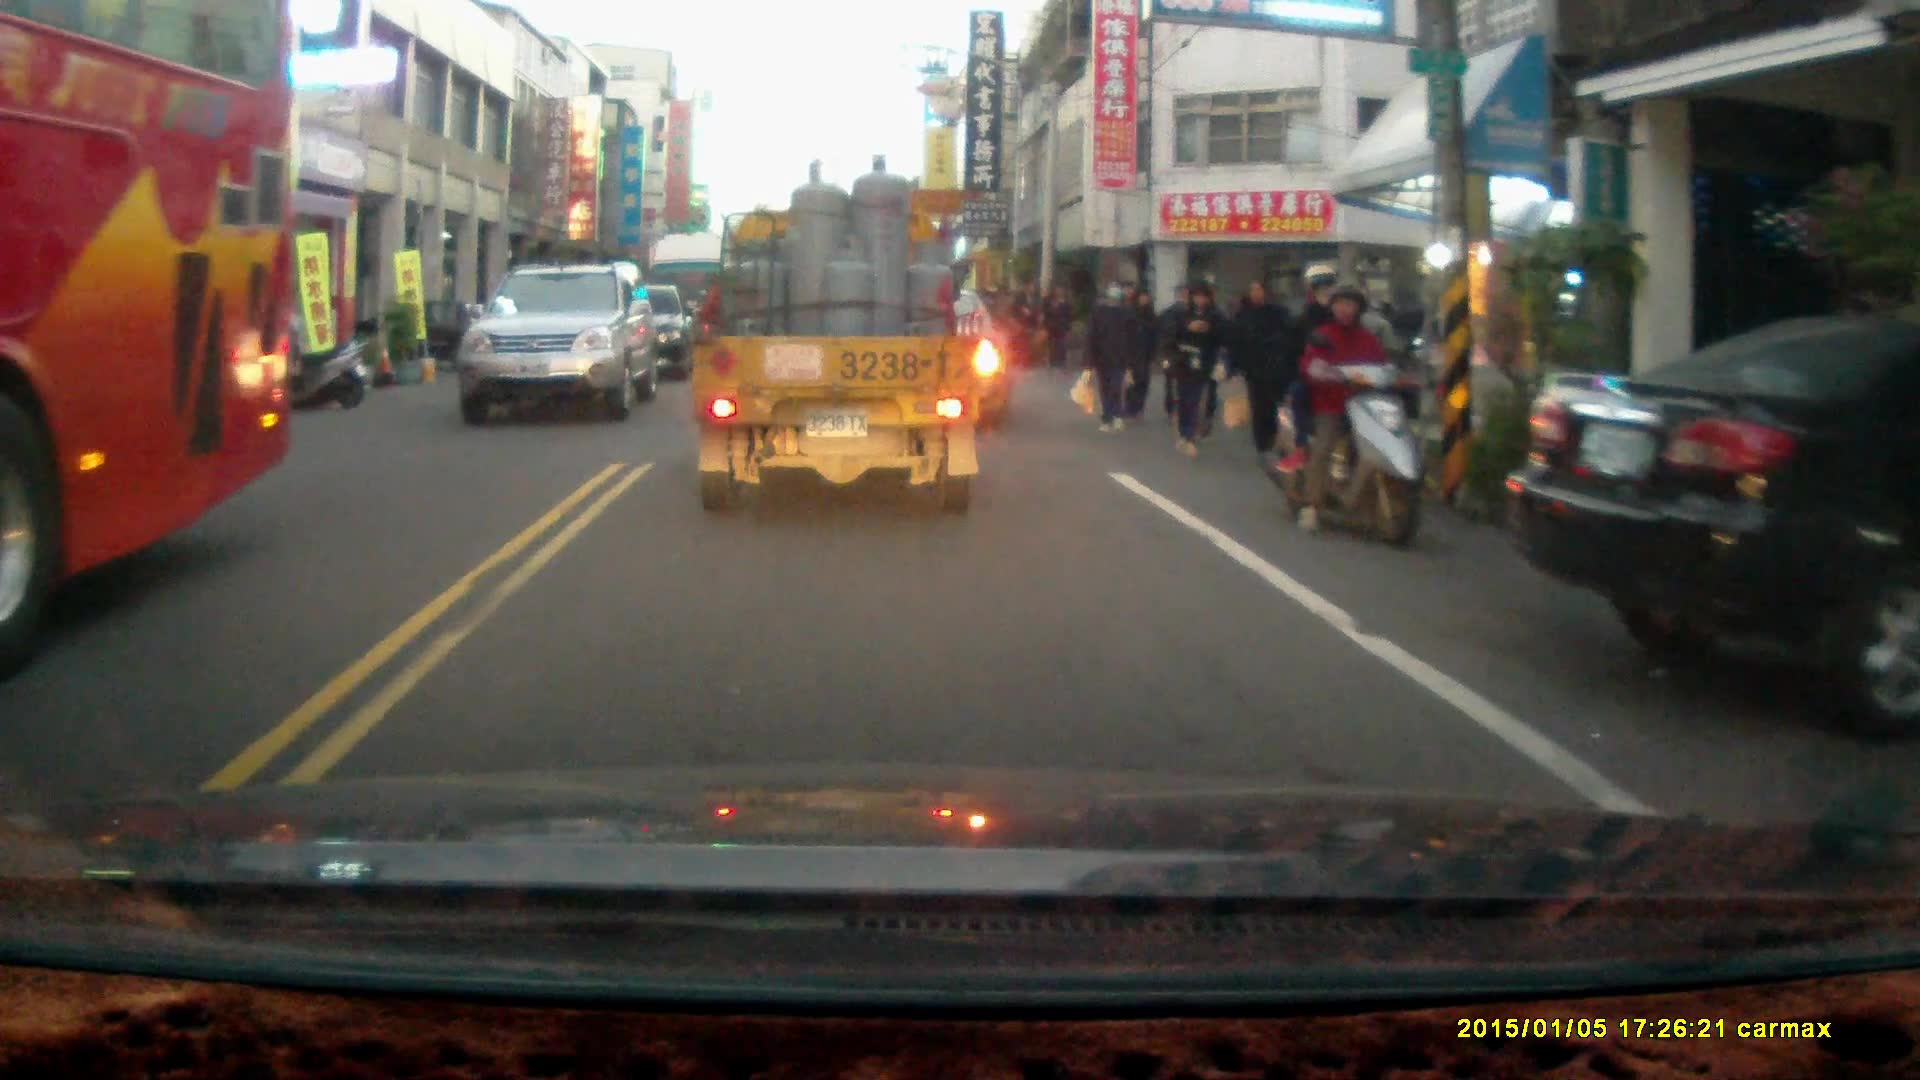pedestrian: (1221, 276, 1293, 460), (1169, 277, 1221, 458), (1084, 276, 1136, 432), (1116, 286, 1160, 425), (1038, 276, 1073, 373), (1013, 277, 1047, 372)
rider: (1258, 258, 1426, 542)
vehicle: (1, 7, 294, 668), (1519, 315, 1920, 733), (691, 154, 987, 521), (794, 283, 1024, 433), (460, 261, 661, 423)
